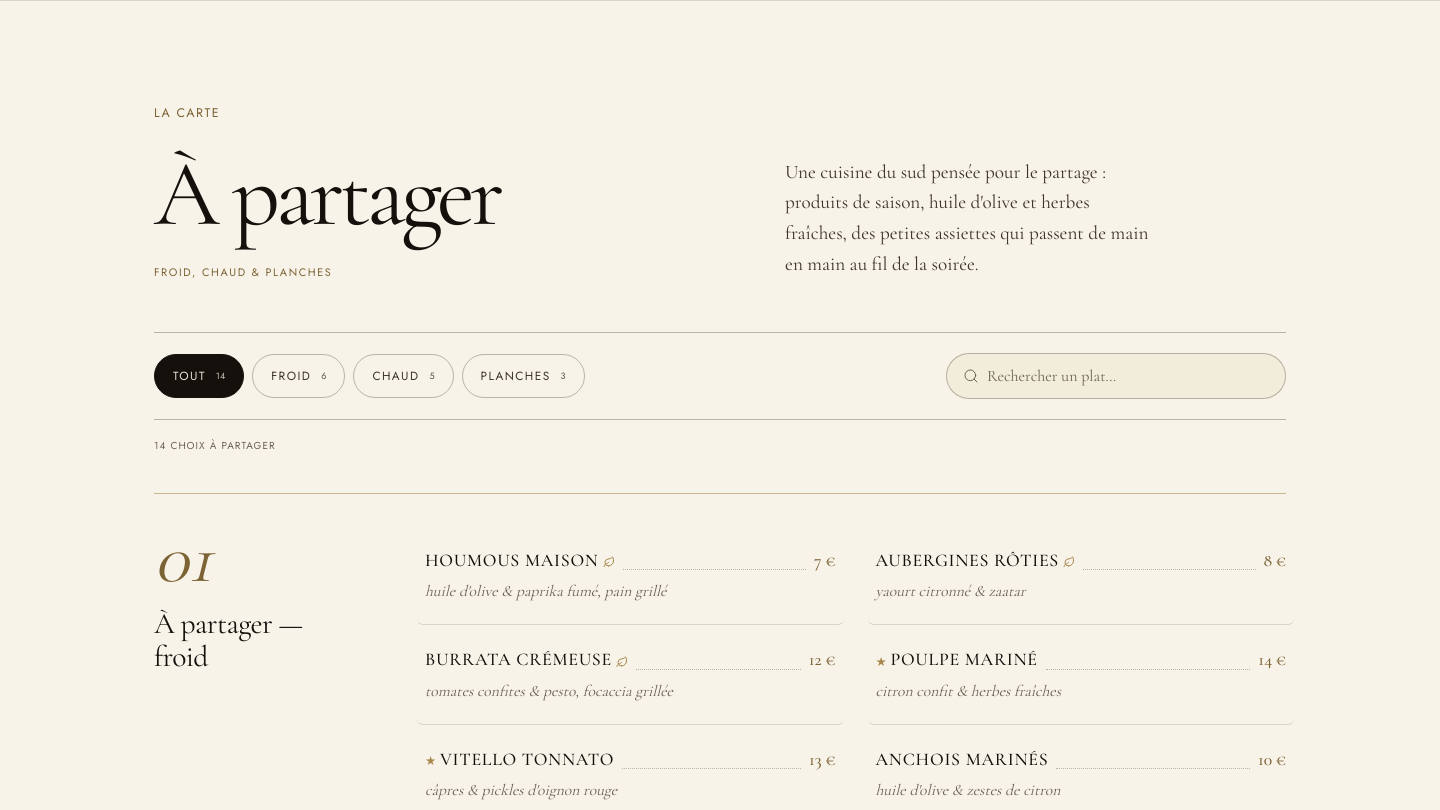
it: CarteSection › affiche l'état vide quand rien ne correspond
This screenshot has width=1440, height=810.
In the search field named "rechercher dans la carte": x=1136, y=376 x1=987 y1=354 x2=1285 y2=398, type "zzzintrouvable"
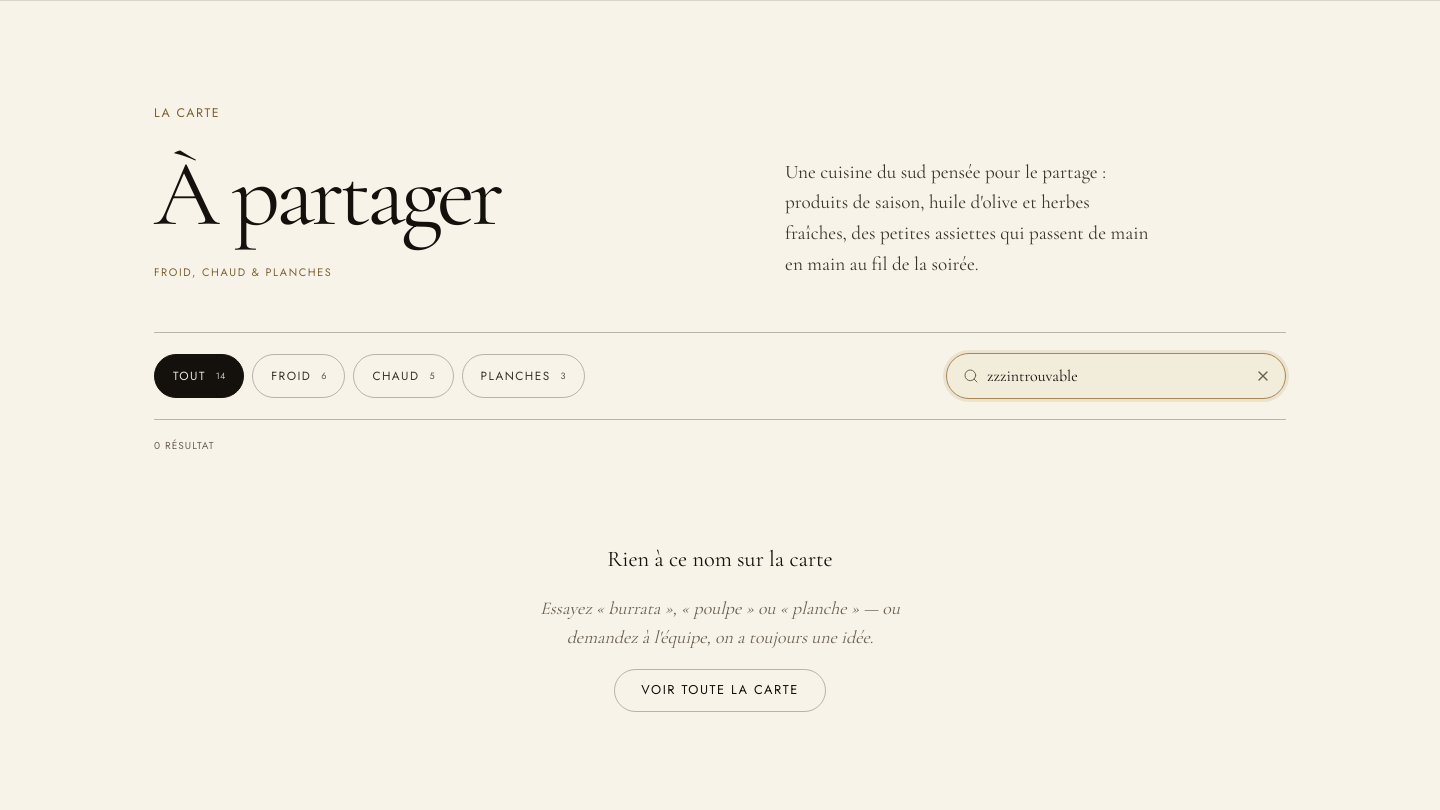
Result: the text "Rien à ce nom sur la carte" is shown at x1=607 y1=541 x2=833 y2=578
